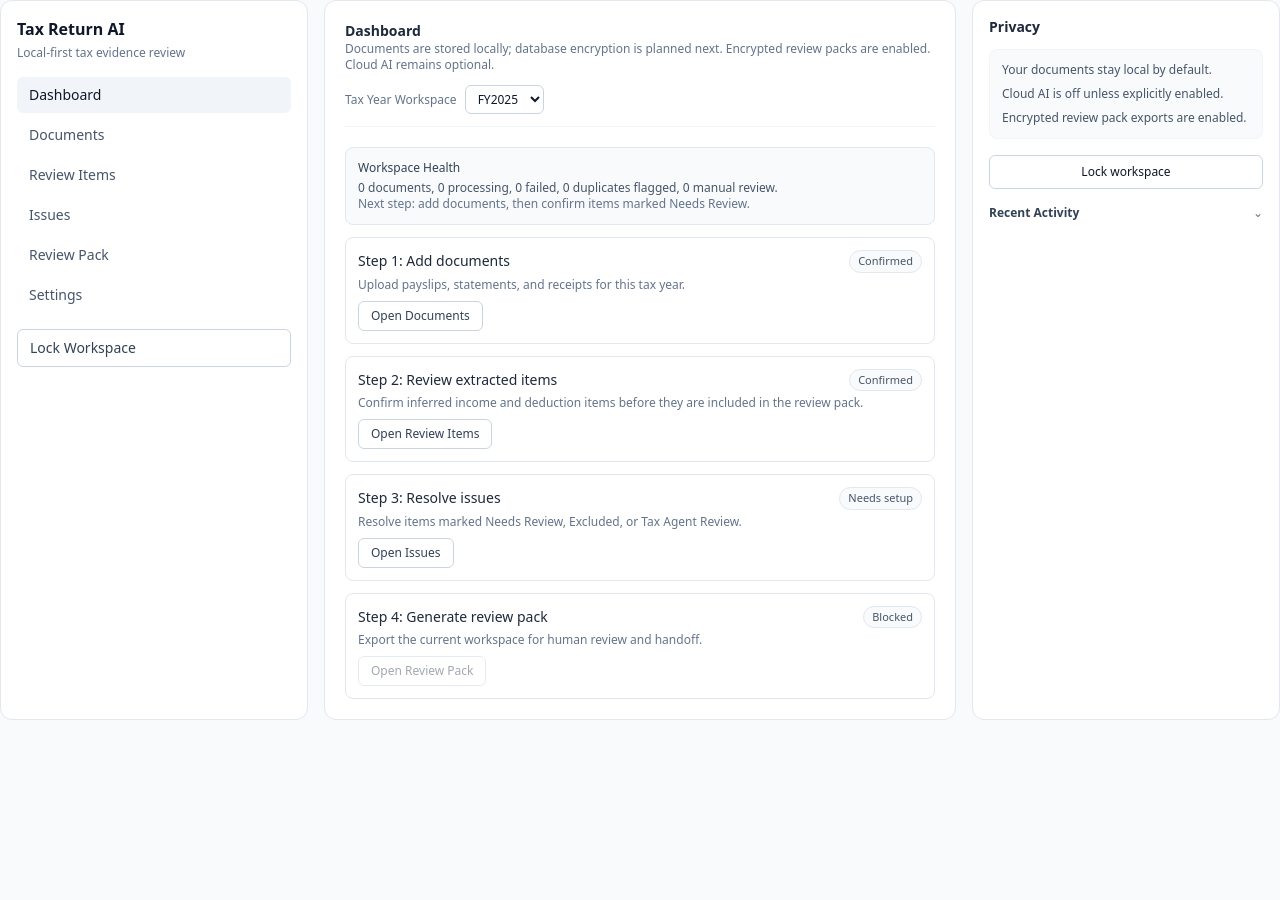
Test: WorkspaceApp API-backed states › renders review filters and item status actions
The width and height of the screenshot is (1280, 900).
Click the button "Review Items". click: point(72, 174)
box: [17,157,291,193]
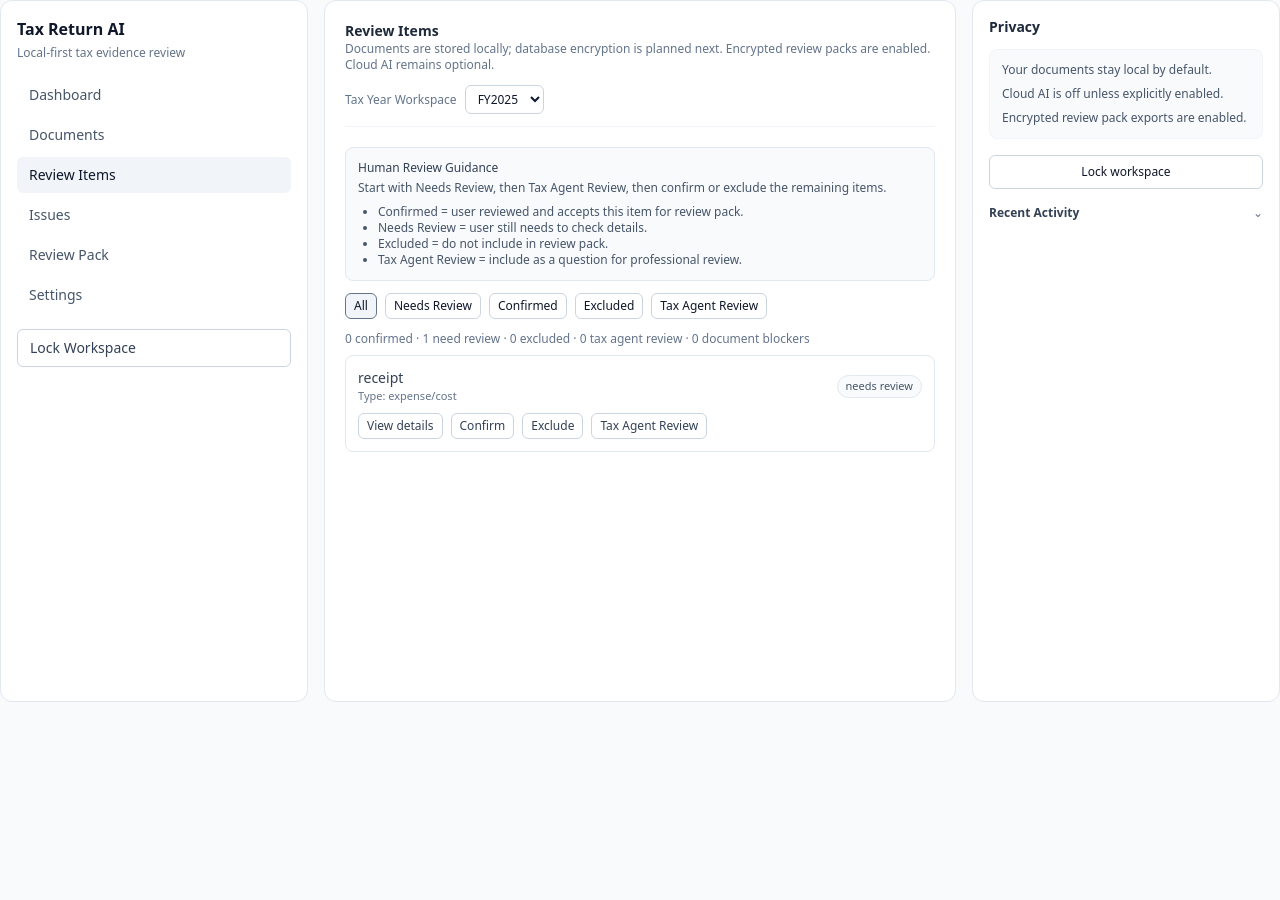
Result: the element with test id "review-filters" is shown at [345,293,767,319]
Result: the element with test id "item-status-actions" shows "Confirm" at [450,412,514,438]
Result: the element with test id "item-status-actions" shows "Exclude" at [522,412,583,438]
